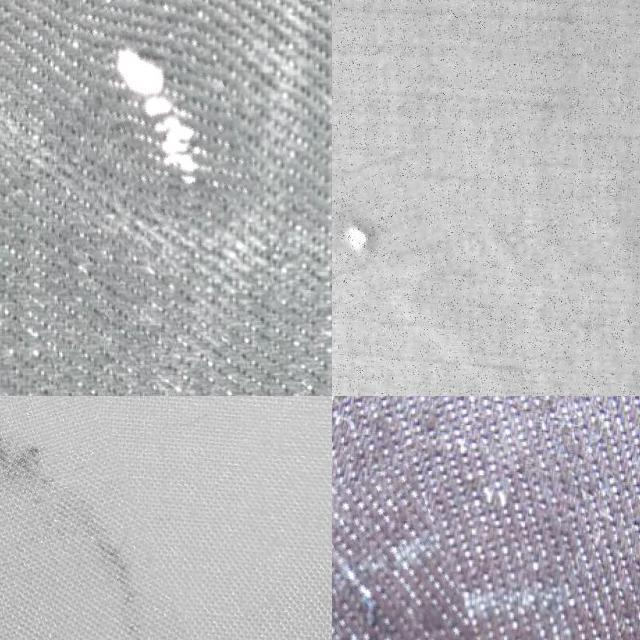Hole: (0, 396, 169, 640)
Thread_other: (89, 0, 245, 225), (332, 489, 550, 640)
seam: (332, 160, 451, 312)
